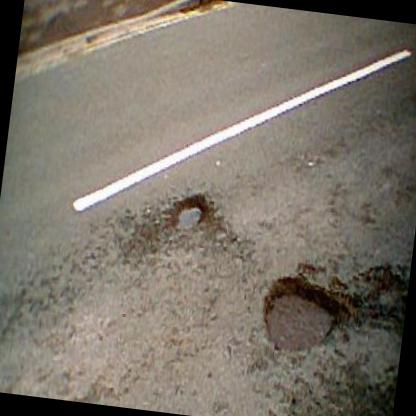pothole: (256, 268, 342, 362), (166, 186, 210, 238)
